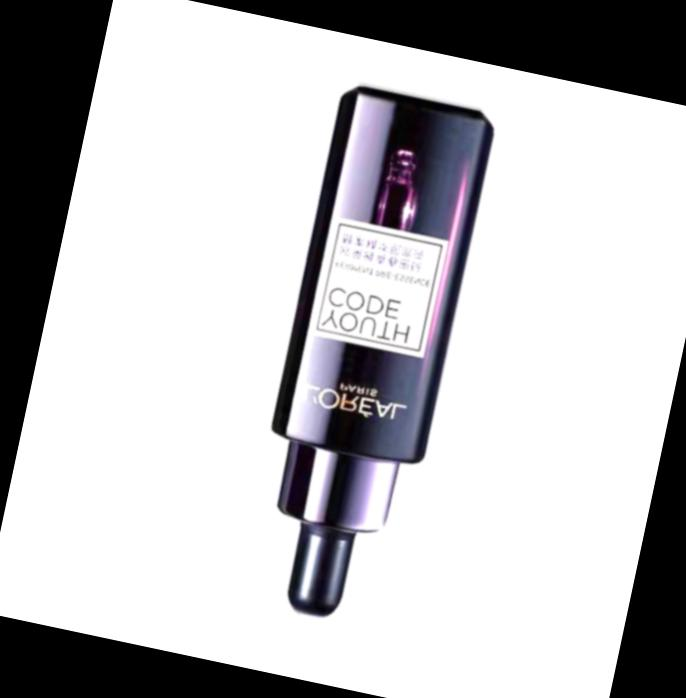cosmetic: (236, 83, 494, 631)
